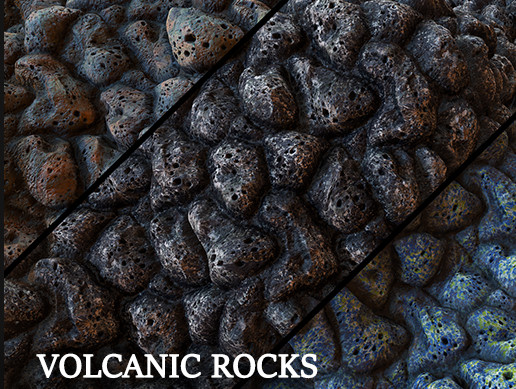volcanic_rock: (366, 40, 441, 141), (183, 200, 274, 277), (7, 128, 91, 209), (80, 218, 162, 297), (10, 56, 94, 132), (176, 288, 272, 353), (61, 10, 142, 87), (227, 57, 306, 134), (291, 60, 371, 126), (309, 156, 375, 232), (358, 140, 416, 222), (334, 304, 404, 369), (161, 9, 237, 67), (402, 292, 457, 371), (201, 149, 266, 214), (144, 208, 201, 282), (295, 1, 365, 60), (146, 131, 202, 200), (257, 127, 326, 182), (124, 299, 179, 353)
